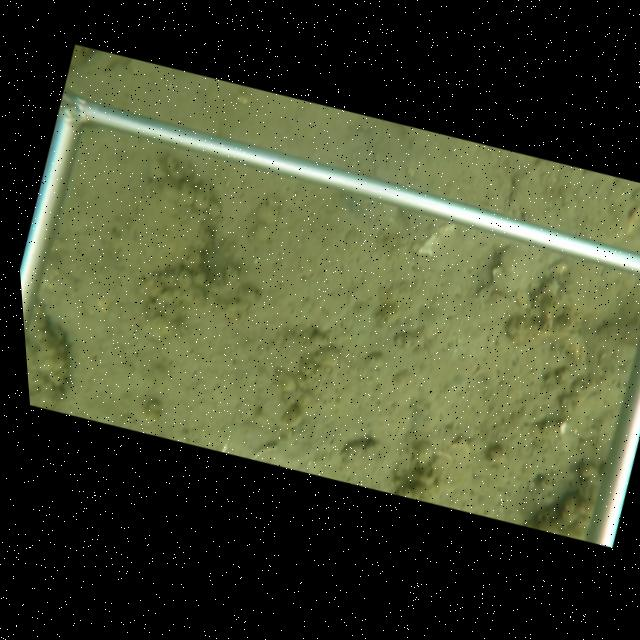Oyster-Indeterminate: (473, 245, 554, 301)
